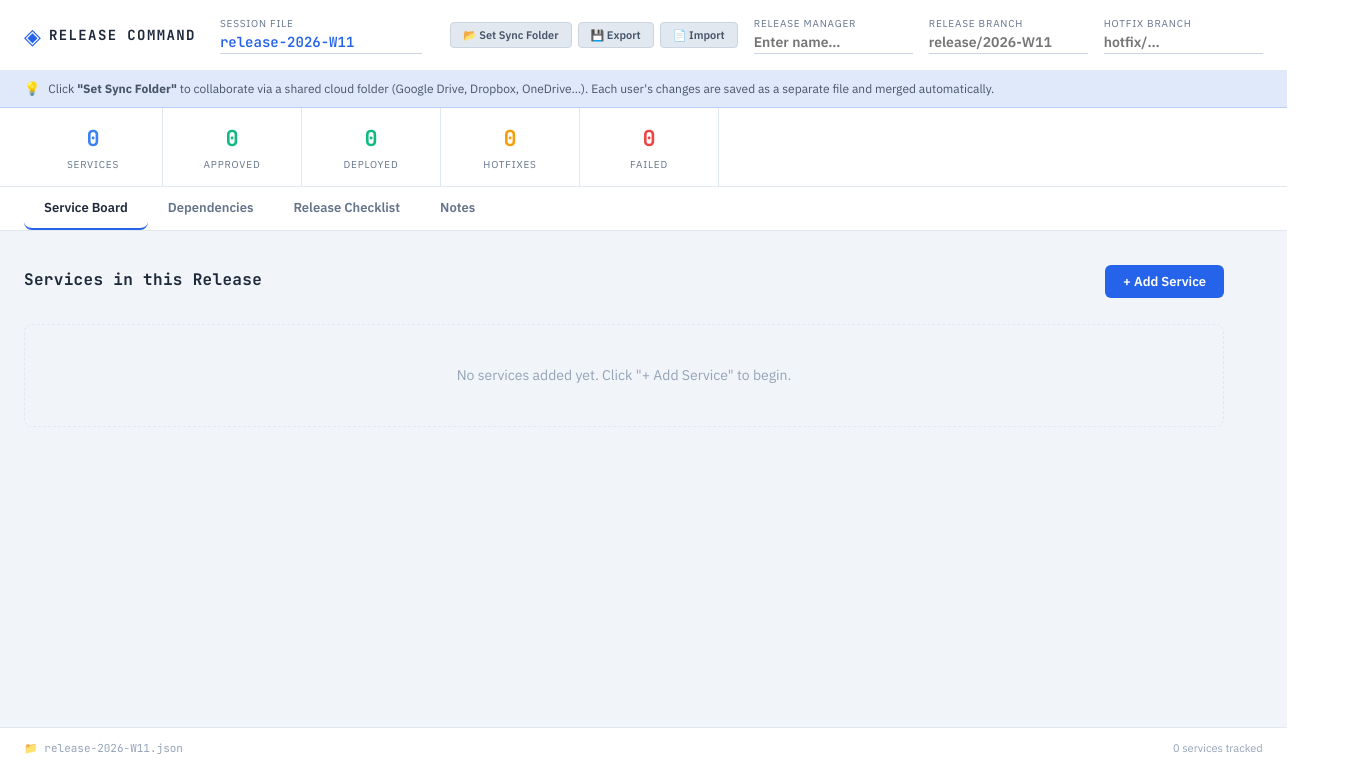
Test case: Notes tab › adds a note input when Add note is clicked
Click the button "Notes". click: (458, 208)
box: [420,186,495,230]
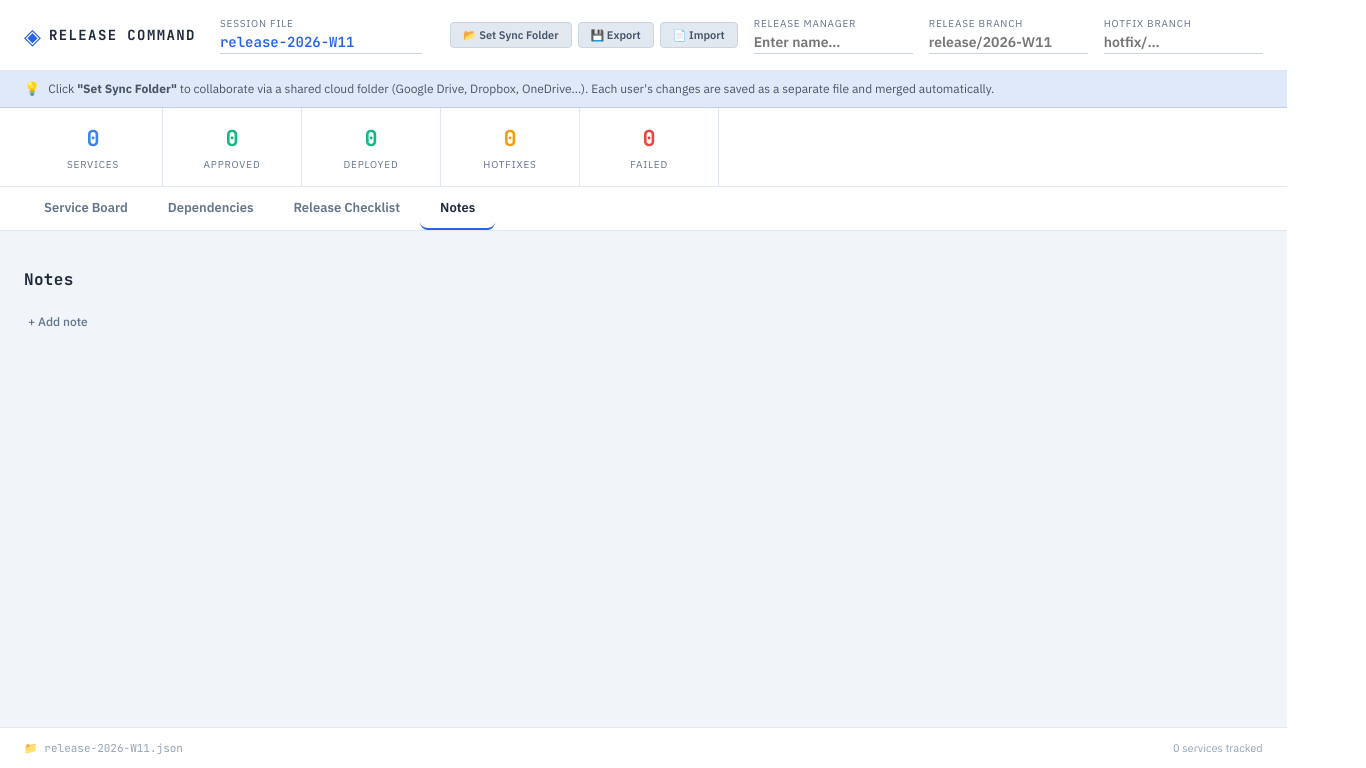
Click the button "+ Add note". click: (58, 321)
box: [24,308,92,335]
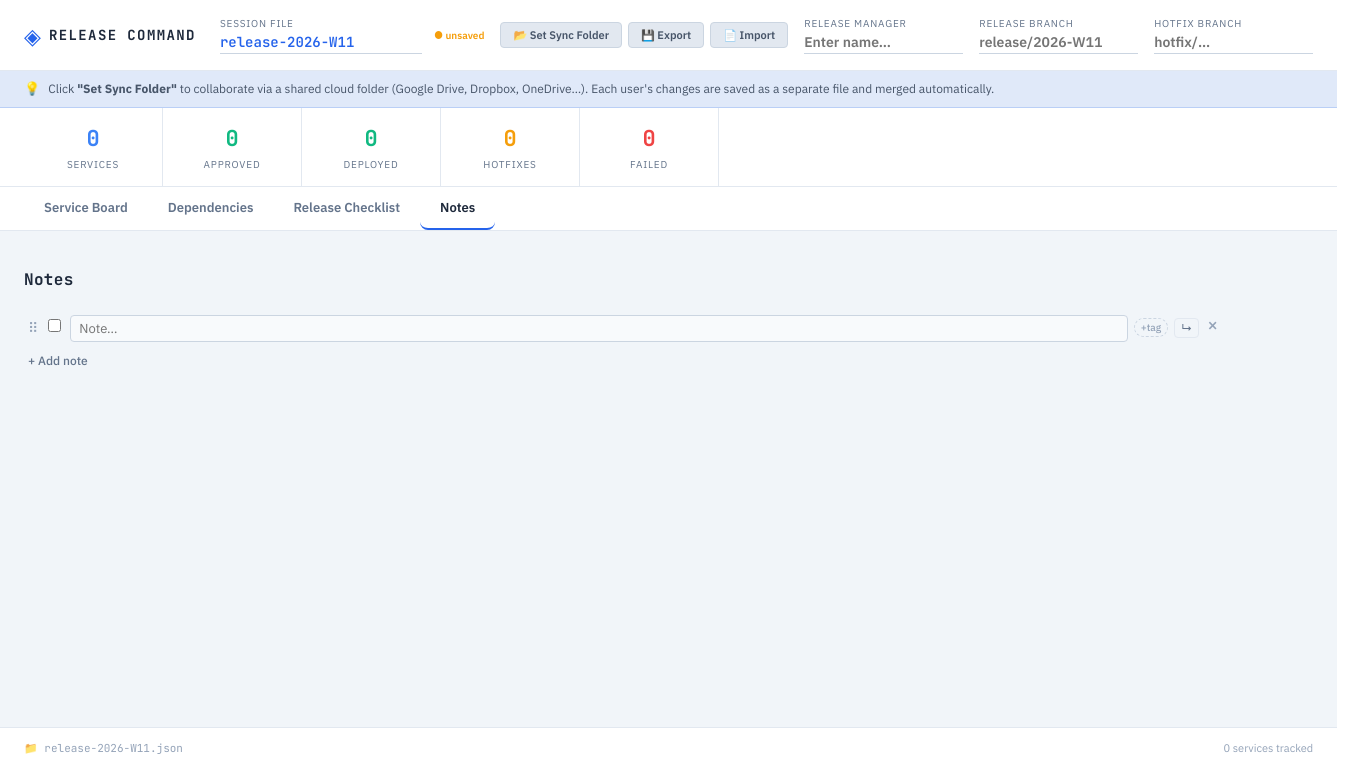
Check: the field with placeholder "Note…" is shown, box [70,315,1128,342]
